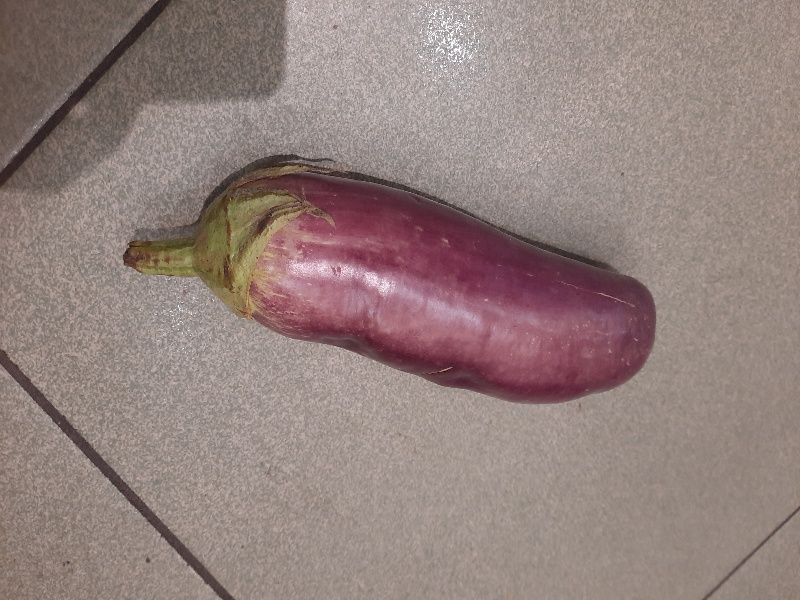vege: (117, 156, 666, 418)
